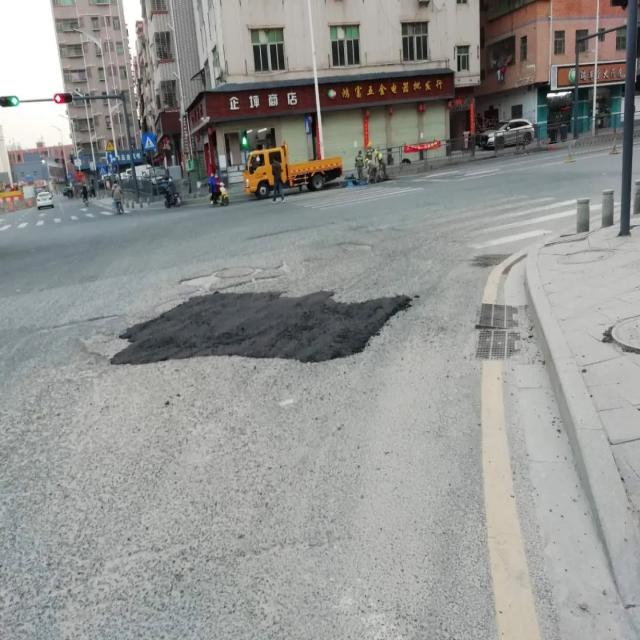Pothole: (119, 290, 413, 384)
